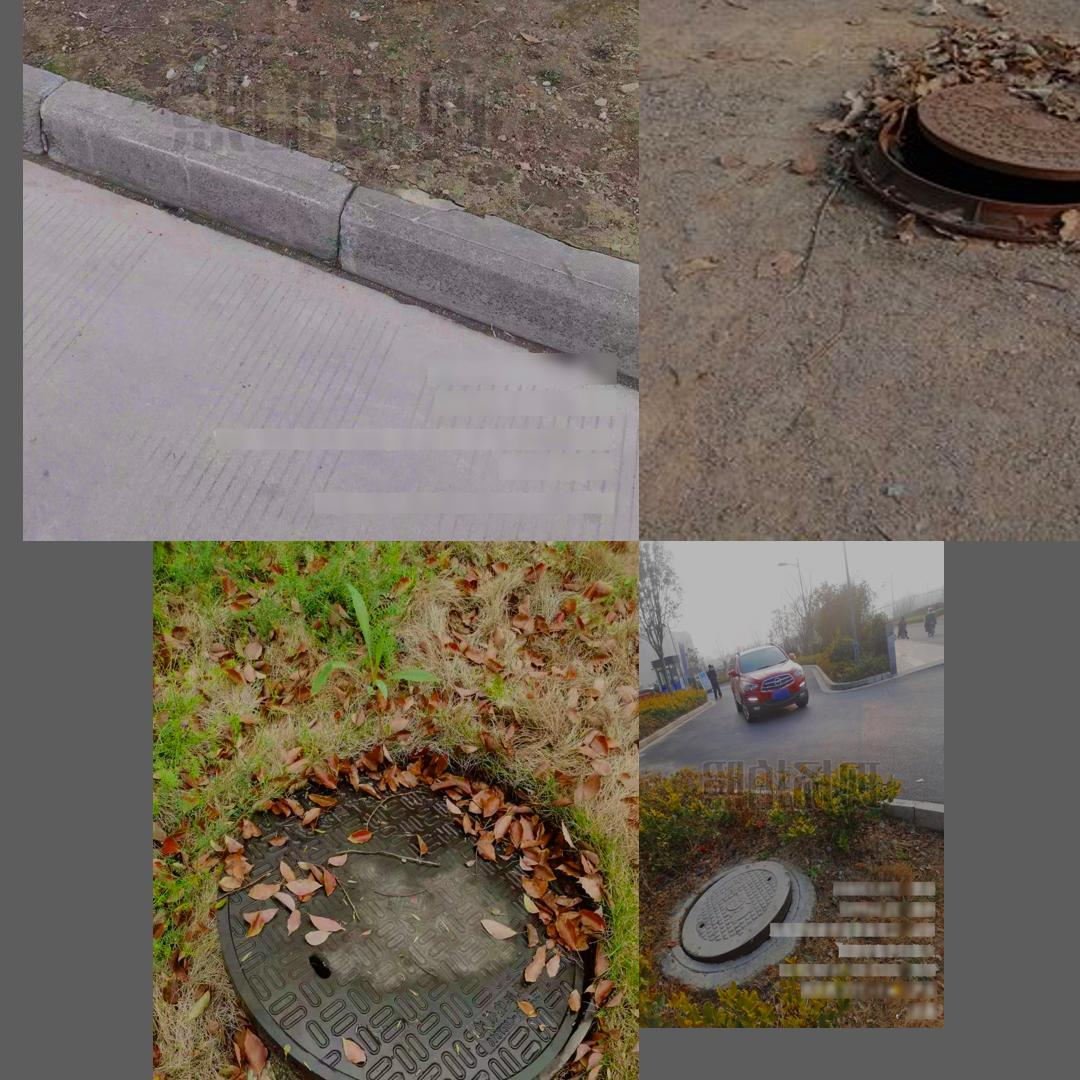uncovered: (218, 753, 607, 1080), (835, 55, 1080, 237), (669, 857, 802, 974)
